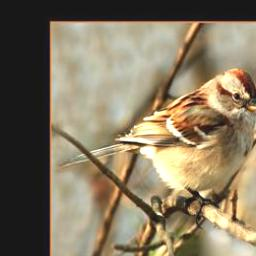Sparrow: (58, 67, 256, 232)
